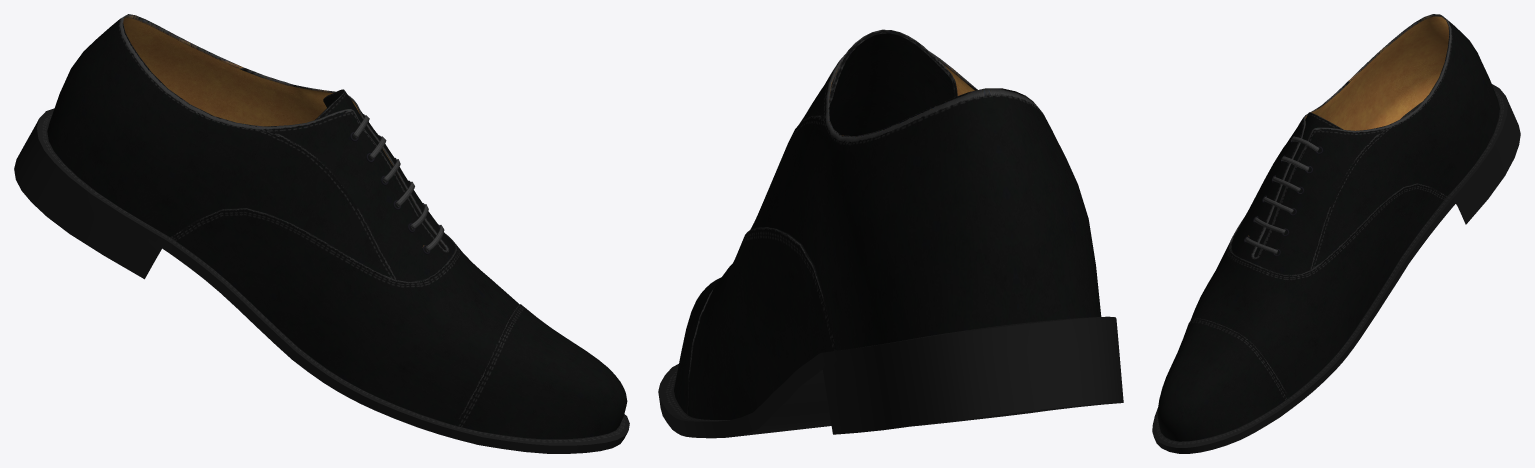
The model's file is old_derby_shoe.gltf.
The picture shows the model from 3 angles, left to right: view 1: azimuth 30°, elevation 25°; view 2: azimuth 150°, elevation 25°; view 3: azimuth 270°, elevation 25°; orthographic projection. The views are drawn at different scales.
Parts seen in each view (by area): view 1: old_derby_shoe; view 2: old_derby_shoe; view 3: old_derby_shoe.
Boxes of the visible parts, <box> form: old_derby_shoe: <box>14,14,629,453</box>; old_derby_shoe: <box>658,29,1123,438</box>; old_derby_shoe: <box>1152,14,1520,453</box>.
Bounding box in the file's own units: 1.4 × 1.18 × 1.28.
2 materials, 2 textured.
